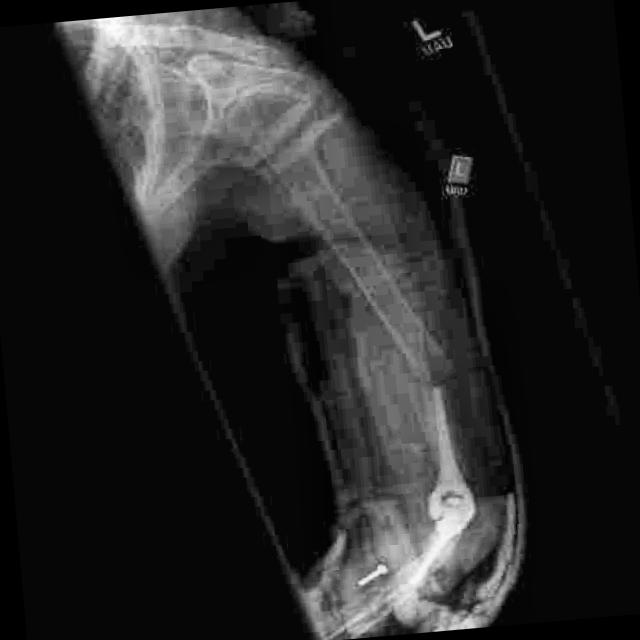humerus: (366, 290, 484, 426)
